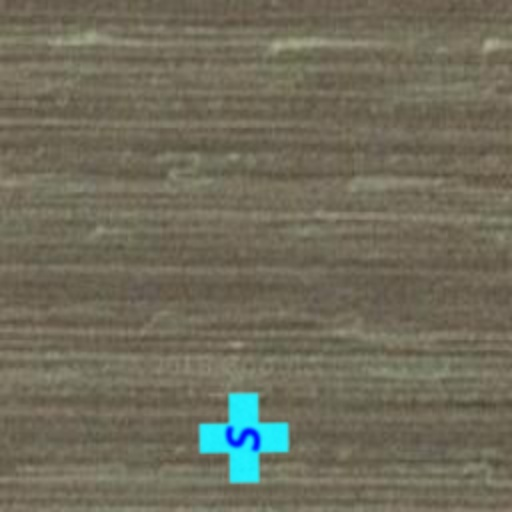cross: (198, 392, 290, 484)
